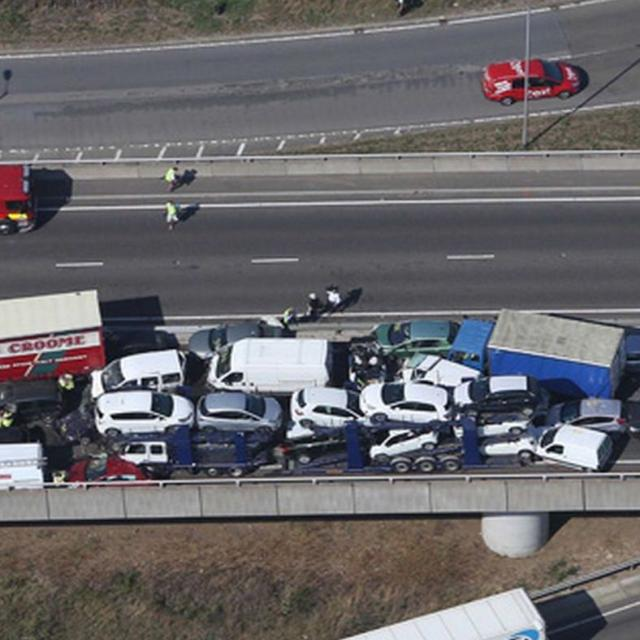traffic_incident: (338, 316, 562, 386)
